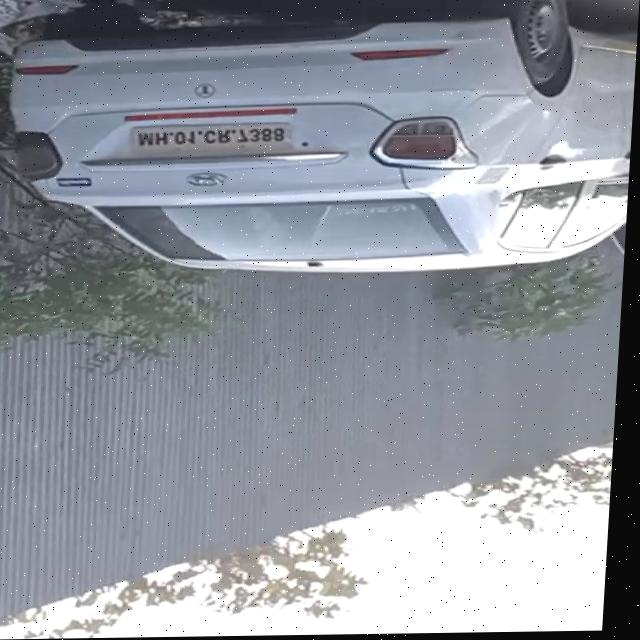plate: (131, 124, 294, 151)
